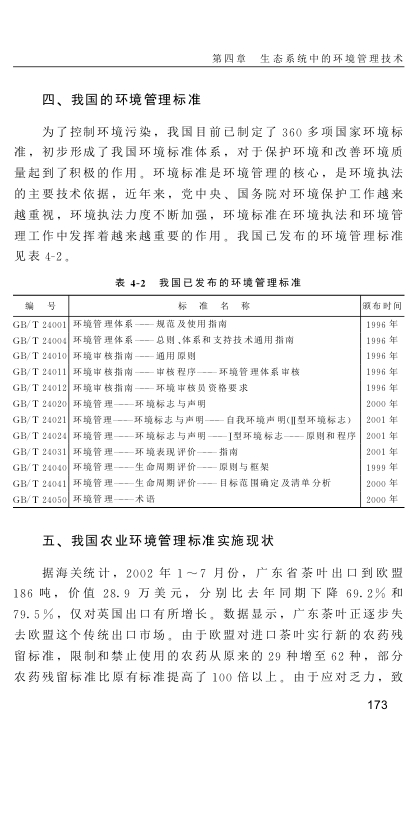table: (13, 294, 404, 508)
